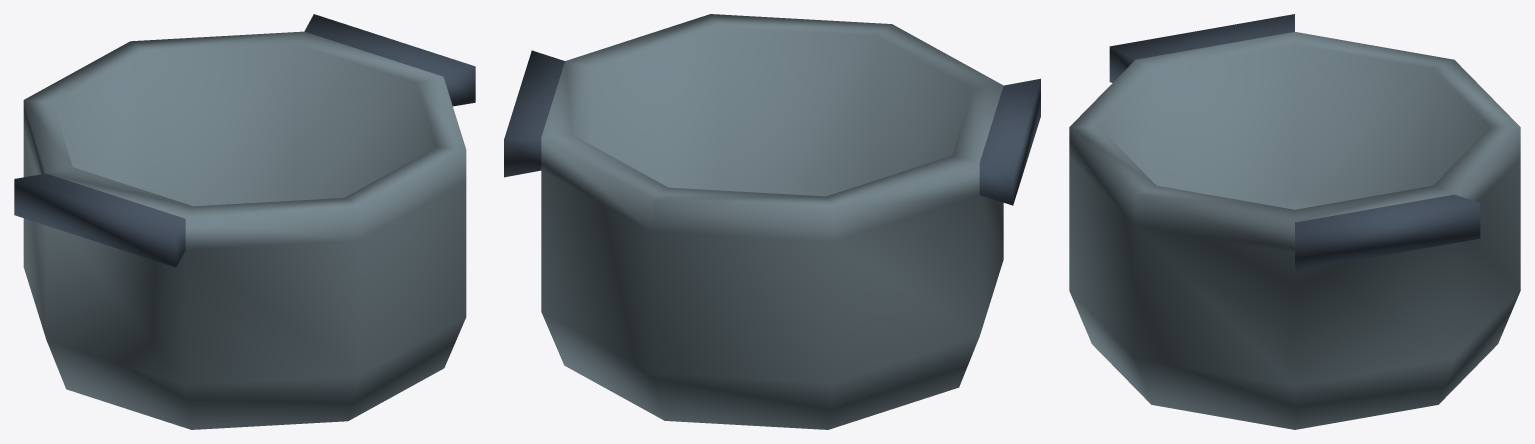
The model's file is Pot_kitchen_v2.fbx.
3 renders of one model, left to right at view 1: azimuth 30°, elevation 25°; view 2: azimuth 150°, elevation 25°; view 3: azimuth 270°, elevation 25°, orthographic. The views are drawn at different scales.
Visible parts, largest first — view 1: Cylinder.001; view 2: Cylinder.001; view 3: Cylinder.001.
Boxes of the visible parts, box(x1,y1,x2,y2) form: Cylinder.001: box(14, 14, 475, 429); Cylinder.001: box(504, 14, 1040, 429); Cylinder.001: box(1069, 14, 1520, 429).
Bounding box in the file's own units: 42.95 × 19.86 × 37.
